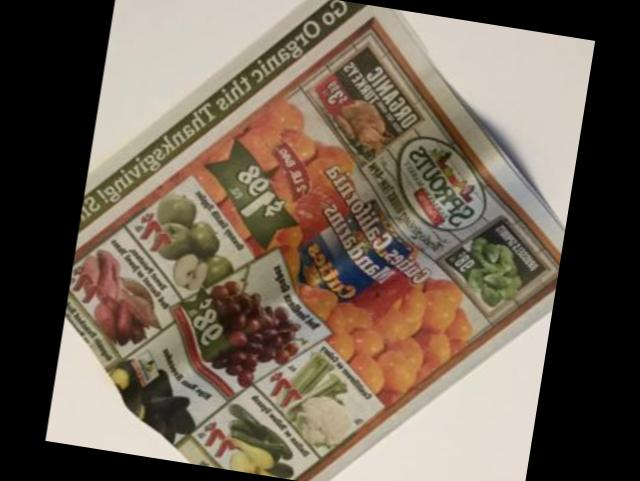cardboard paper: (65, 0, 565, 481)
